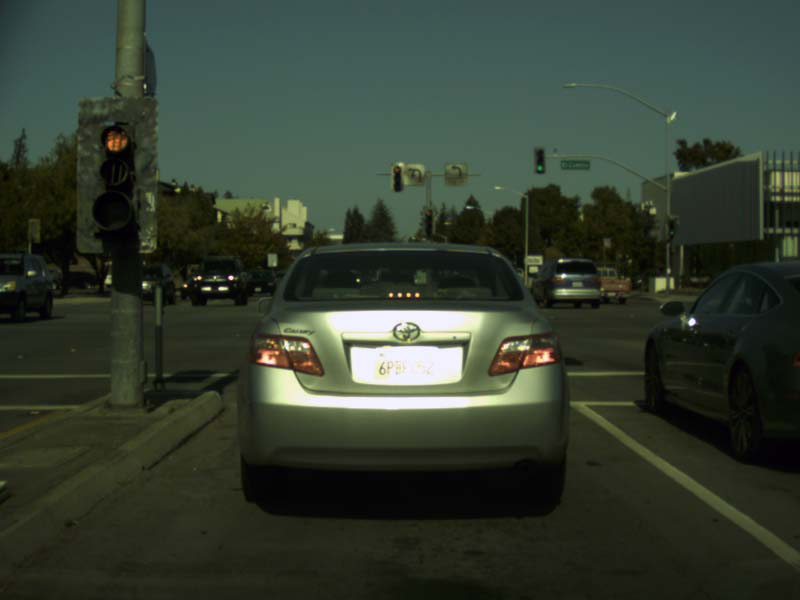Green: (536, 149, 542, 172), (669, 222, 674, 238)
Red: (91, 117, 138, 246), (393, 166, 401, 190), (425, 209, 432, 233)
